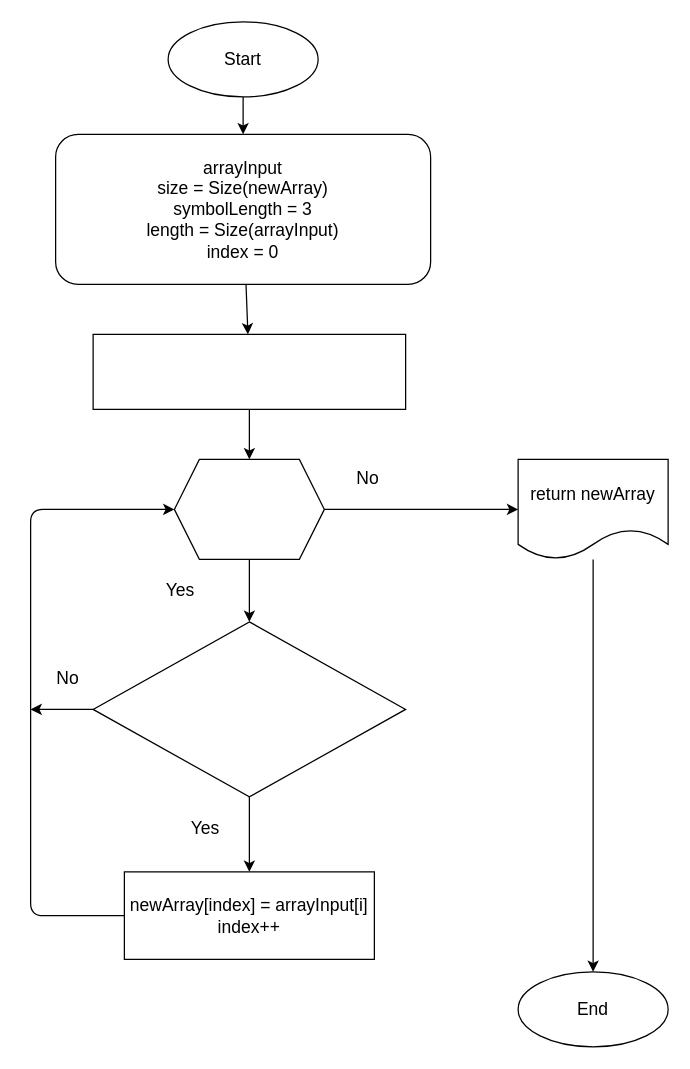
This 690x1069 diagram has some shape labels left out. Here are the shapes that lost their labels. From the top down, the centre of each, then its label:
At [249,371]: "newArray(size)".
At [248,508]: "i=0 i < length i++".
At [249,709]: "Size(arrayInput[i]) <= symbolLength".
